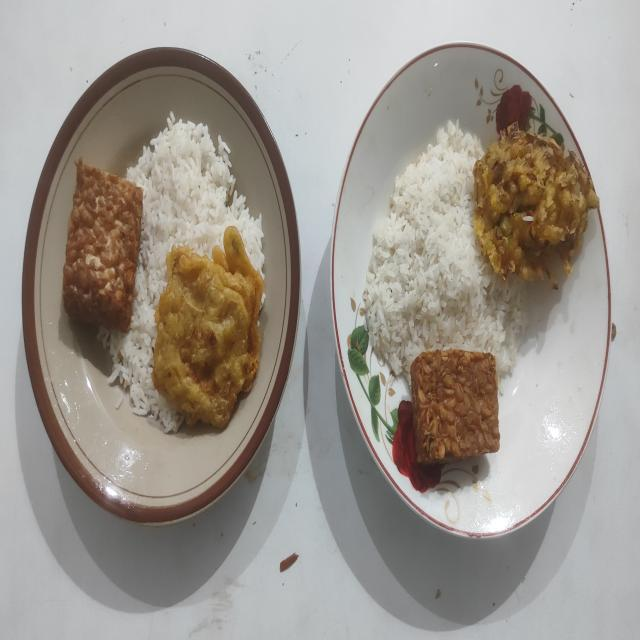nasi_putih: (100, 112, 264, 431), (363, 120, 525, 380)
tempe_goreng: (62, 158, 142, 332), (410, 349, 500, 463)
